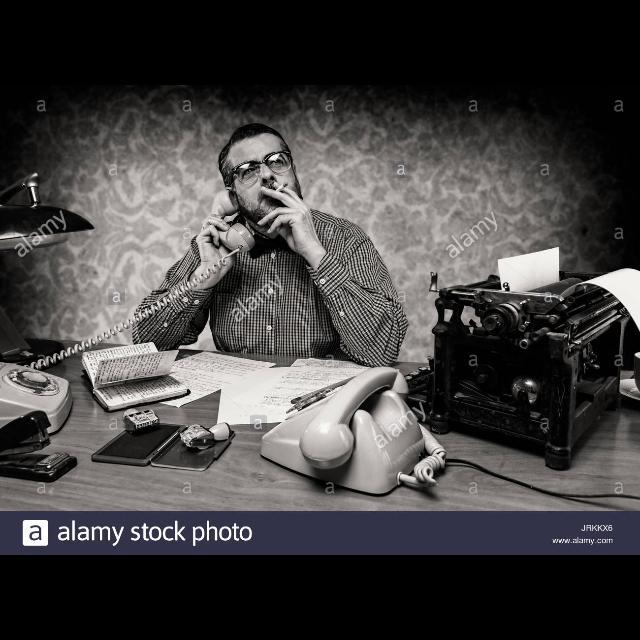rokok: (270, 181, 292, 195)
